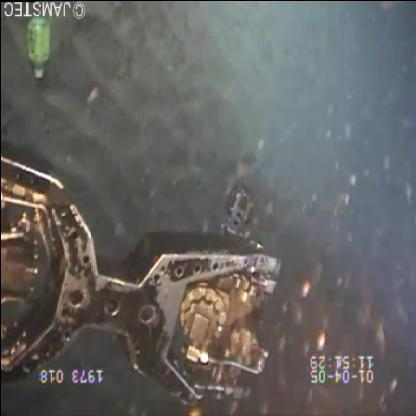Rov: (0, 130, 288, 411)
Rác: (20, 10, 52, 82)
